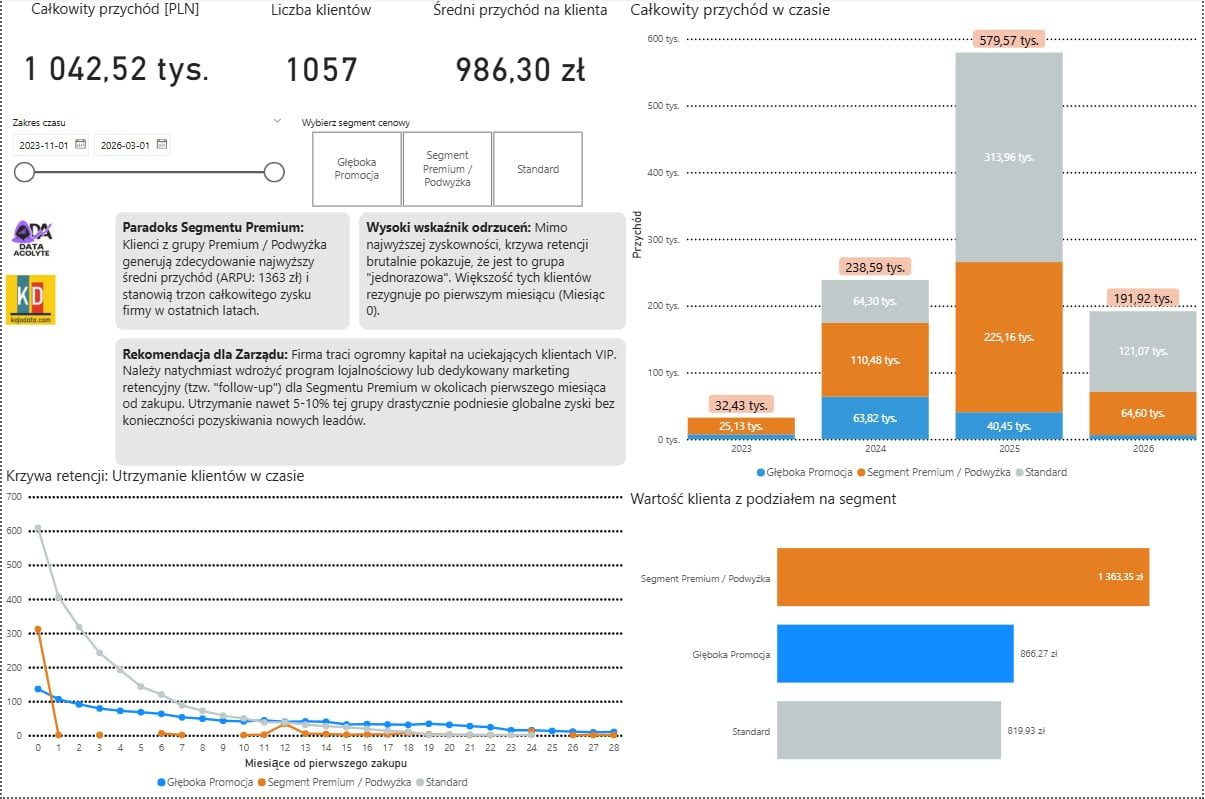

The dashboard page shown, as its layout file describes it:
{"tool":"powerbi","page":{"name":"Strona 1","canvas":[1500,1000],"ordinal":0},"visuals":[{"type":"slicer","fields":{"Values":["KDS_Do_PowerBI.Segment_Cenowy_Wejscia"]},"box":[362,141.9,388.5,126],"z":0},{"type":"columnChart","title":"Całkowity przychód w czasie","fields":{"Category":["KDS_Do_PowerBI.Miesiac_Rok.Odmiana.Hierarchia dat.Rok","KDS_Do_PowerBI.Miesiac_Rok.Odmiana.Hierarchia dat.Kwartał","KDS_Do_PowerBI.Miesiac_Rok.Odmiana.Hierarchia dat.Miesiąc","KDS_Do_PowerBI.Miesiac_Rok.Odmiana.Hierarchia dat.Dzień"],"Y":["KDS_Do_PowerBI.Total Revenue"],"Series":["KDS_Do_PowerBI.Segment_Cenowy_Wejscia"]},"box":[781,0,718.7,612.6],"z":1000},{"type":"slicer","title":"Zakres czasu","fields":{"Values":["KDS_Do_PowerBI.Miesiac_Kohorty"]},"box":[0,141.9,362,126],"z":2000},{"type":"image","box":[0,340.8,71.6,74.3],"z":3000},{"type":"image","box":[1.3,249.3,71.6,102.1],"z":4000},{"type":"clusteredBarChart","title":"Wartość klienta z podziałem na segment","fields":{"Category":["KDS_Do_PowerBI.Segment_Cenowy_Wejscia"],"Y":["KDS_Do_PowerBI.ARPU"]},"box":[781,612.6,718.7,387.2],"z":5000},{"type":"lineChart","title":"Krzywa retencji: Utrzymanie klientów w czasie","fields":{"Y":["KDS_Do_PowerBI.Unique Customers"],"Category":["KDS_Do_PowerBI.Miesiace_Od_Dolaczenia"],"Series":["KDS_Do_PowerBI.Segment_Cenowy_Wejscia"]},"box":[0,584.7,781,415],"z":6000},{"type":"card","title":"Całkowity przychód [PLN]","fields":{"Values":["KDS_Do_PowerBI.Total Revenue"]},"box":[1.3,0,281.1,141.9],"z":6001},{"type":"card","title":"Średni przychód na klienta","fields":{"Values":["KDS_Do_PowerBI.ARPU"]},"box":[515.8,1.3,265.2,141.9],"z":6004},{"type":"card","title":"Liczba klientów","fields":{"Values":["KDS_Do_PowerBI.Unique Customers"]},"box":[282.4,1.3,233.4,141.9],"z":6005},{"type":"textbox","box":[141.9,267.8,293,147.2],"z":6006},{"type":"textbox","box":[446.8,267.8,334.1,147.2],"z":6007},{"type":"textbox","box":[141.9,425.6,639.1,159.1],"z":6008}]}

Visuals, with their boxes in screenshot pixels (x1, y1, x2, y2), scaled from the page's 1500x1000 canvas onto the 1205x799 screenshot:
slicer - KDS_Do_PowerBI.Segment_Cenowy_Wejscia: (291, 113, 603, 214)
"Całkowity przychód w czasie" columnChart: (627, 0, 1204, 489)
"Zakres czasu" slicer: (0, 113, 291, 214)
image: (0, 272, 58, 332)
image: (1, 199, 59, 281)
"Wartość klienta z podziałem na segment" clusteredBarChart: (627, 489, 1204, 798)
"Krzywa retencji: Utrzymanie klientów w czasie" lineChart: (0, 467, 627, 798)
"Całkowity przychód [PLN]" card: (1, 0, 227, 113)
"Średni przychód na klienta" card: (414, 1, 627, 114)
"Liczba klientów" card: (227, 1, 414, 114)
textbox: (114, 214, 349, 332)
textbox: (359, 214, 627, 332)
textbox: (114, 340, 627, 467)
